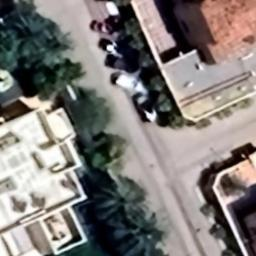SUV: (130, 89, 161, 125), (106, 52, 140, 70)
sedan: (87, 16, 115, 36), (97, 38, 128, 56)
unknown: (108, 70, 150, 96)
